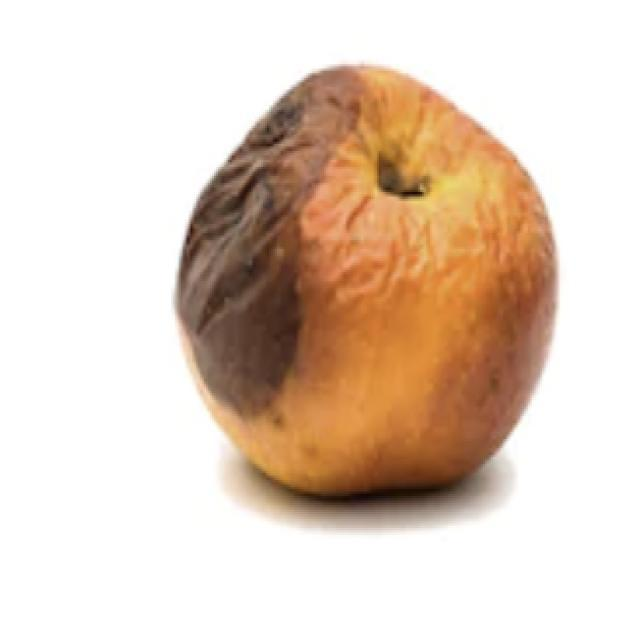Rotten: (167, 40, 585, 498)
